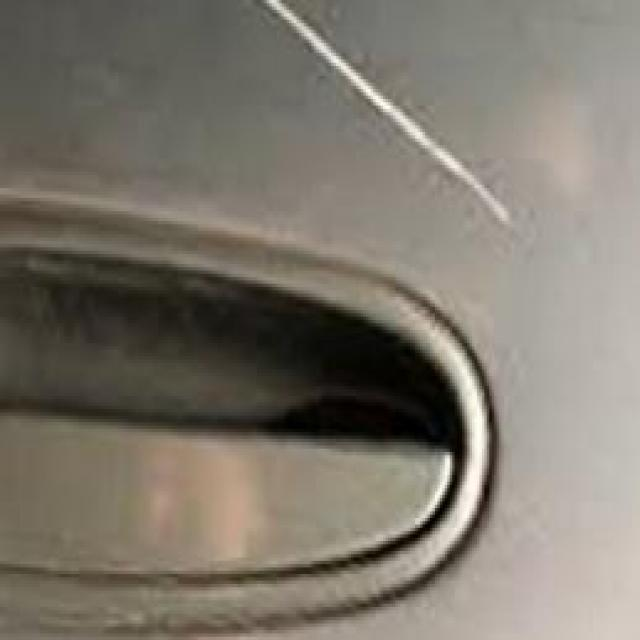scratch: (243, 3, 525, 235)
